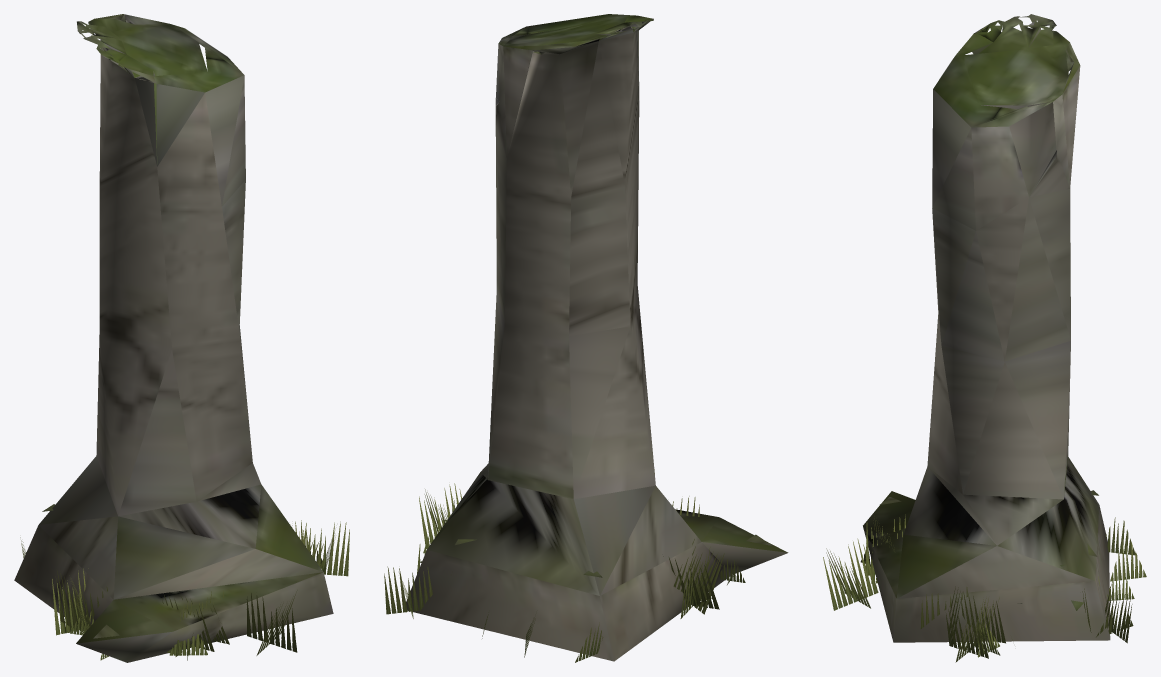
File: ruins_pillar_lod2.glb
3 views of the same model, side by side, from view 1: azimuth 30°, elevation 25°; view 2: azimuth 150°, elevation 25°; view 3: azimuth 270°, elevation 25° (orthographic). The views are drawn at different scales.
Parts seen in each view (by area): view 1: ruins_pillar_lod2; view 2: ruins_pillar_lod2; view 3: ruins_pillar_lod2.
Part boxes in pixels (x1=…): ruins_pillar_lod2: x1=14, y1=14, x2=349, y2=662; ruins_pillar_lod2: x1=384, y1=14, x2=788, y2=662; ruins_pillar_lod2: x1=823, y1=14, x2=1146, y2=662.
Size of the model in its own units: 2.71 by 4.7 by 2.59.
Materials: 2 (2 with a texture image).
